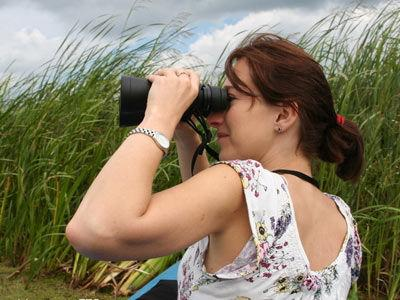person: (66, 35, 363, 299)
